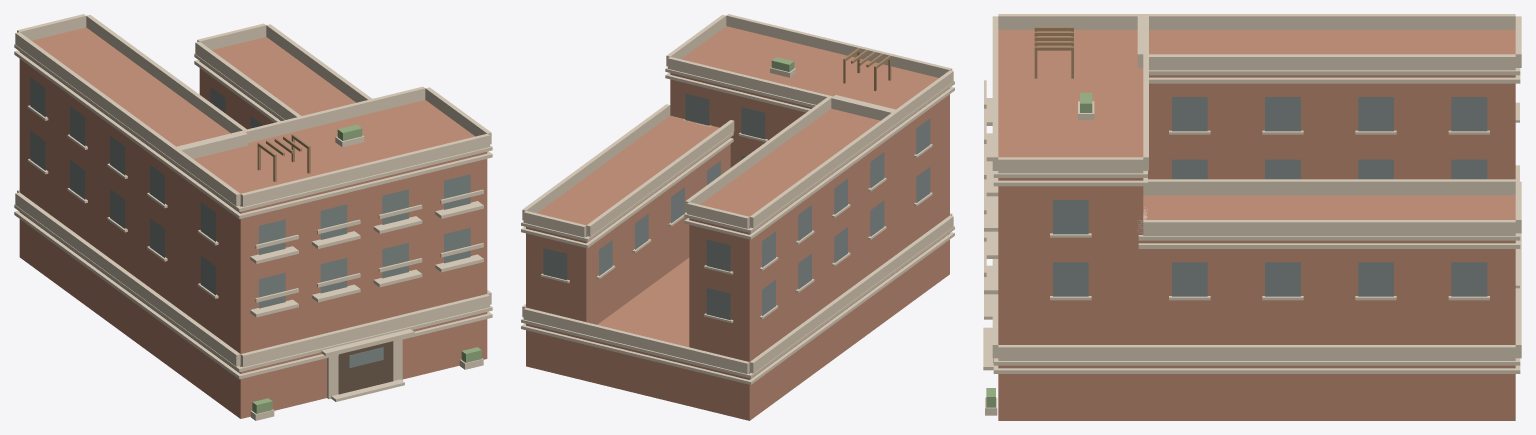
File: residential_2x3_court.glb
The picture shows the model from 3 angles, left to right: view 1: azimuth 30°, elevation 25°; view 2: azimuth 150°, elevation 25°; view 3: azimuth 270°, elevation 25°; orthographic projection. The views are drawn at different scales.
Visible parts, largest first — view 1: residential_2x3_court_0; view 2: residential_2x3_court_0; view 3: residential_2x3_court_0.
Boxes of the visible parts, <box> form: residential_2x3_court_0: <box>14,14,492,420</box>; residential_2x3_court_0: <box>521,14,954,420</box>; residential_2x3_court_0: <box>983,14,1521,420</box>.
Bounding box in the file's own units: 15 × 13.5 × 23.4.
